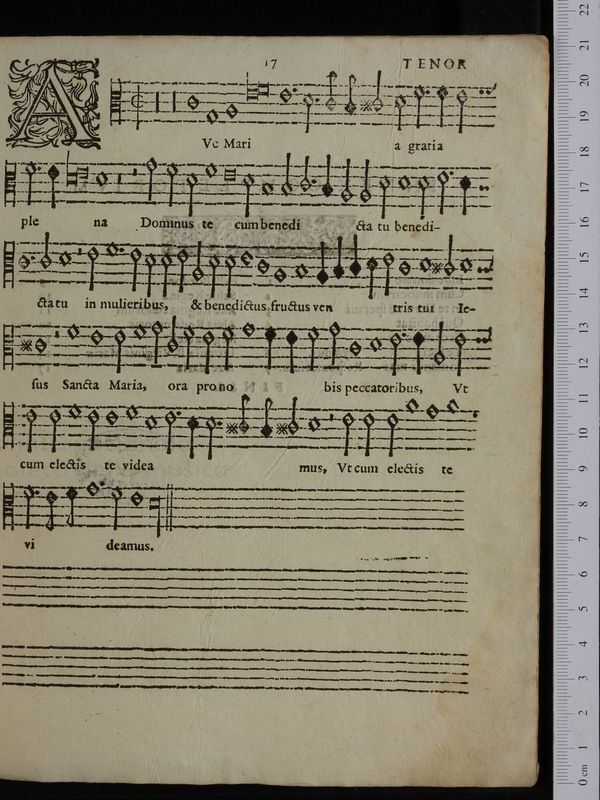c clef_7: (1, 399, 21, 454)
custos_4: (465, 399, 487, 423)
fusa_7: (236, 389, 251, 442)
fusa_8: (260, 391, 275, 442)
minim rest: (325, 400, 336, 454)
minim_5: (19, 400, 39, 454), (339, 406, 355, 460), (360, 406, 376, 460), (384, 407, 400, 461), (84, 403, 100, 454), (161, 404, 176, 458), (48, 401, 62, 456)
minim_6: (202, 408, 216, 462)
minim_7: (286, 390, 301, 442)
point: (170, 403, 185, 422), (210, 414, 226, 431)
semibreve_2: (401, 391, 421, 419), (442, 393, 462, 420)
semibreve_3: (422, 396, 442, 427)
semibreve_4: (121, 397, 140, 427), (66, 395, 83, 424)
semibreve_5: (102, 401, 120, 432)
semibreve_6: (304, 408, 324, 440), (141, 406, 161, 437)
semiminim_6: (183, 407, 200, 461)
sharp: (220, 417, 241, 441), (271, 417, 291, 441)
